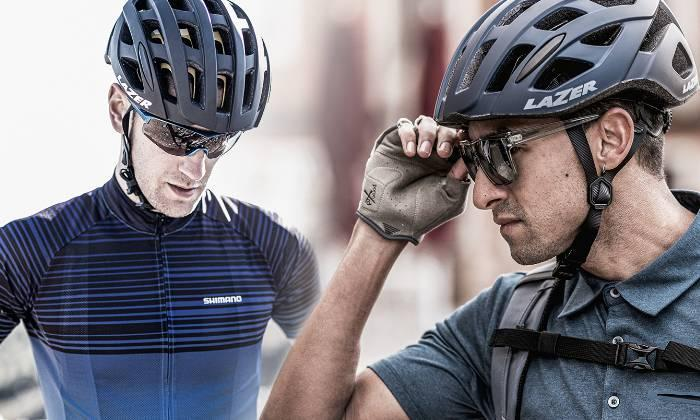helmet: (432, 1, 700, 265), (104, 1, 271, 218)
